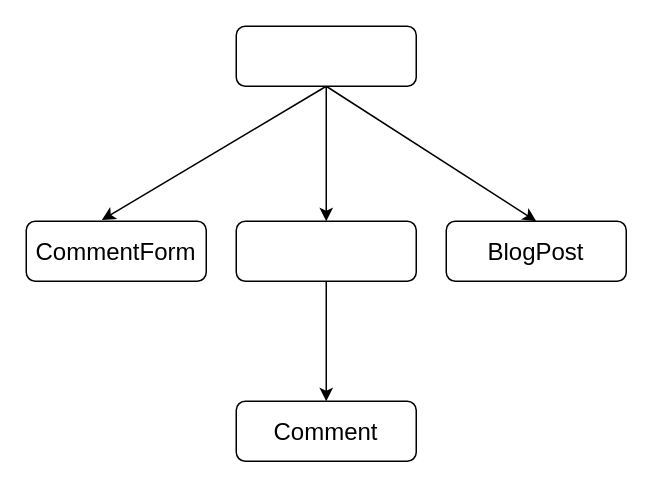
Image size: 653x488. Some labels were removed from this diagram. The shapes that lost their labels are listed below. From the top down, each one's centre as x and y in pixels, then its label:
point (325, 55): App
point (325, 250): CommentList
